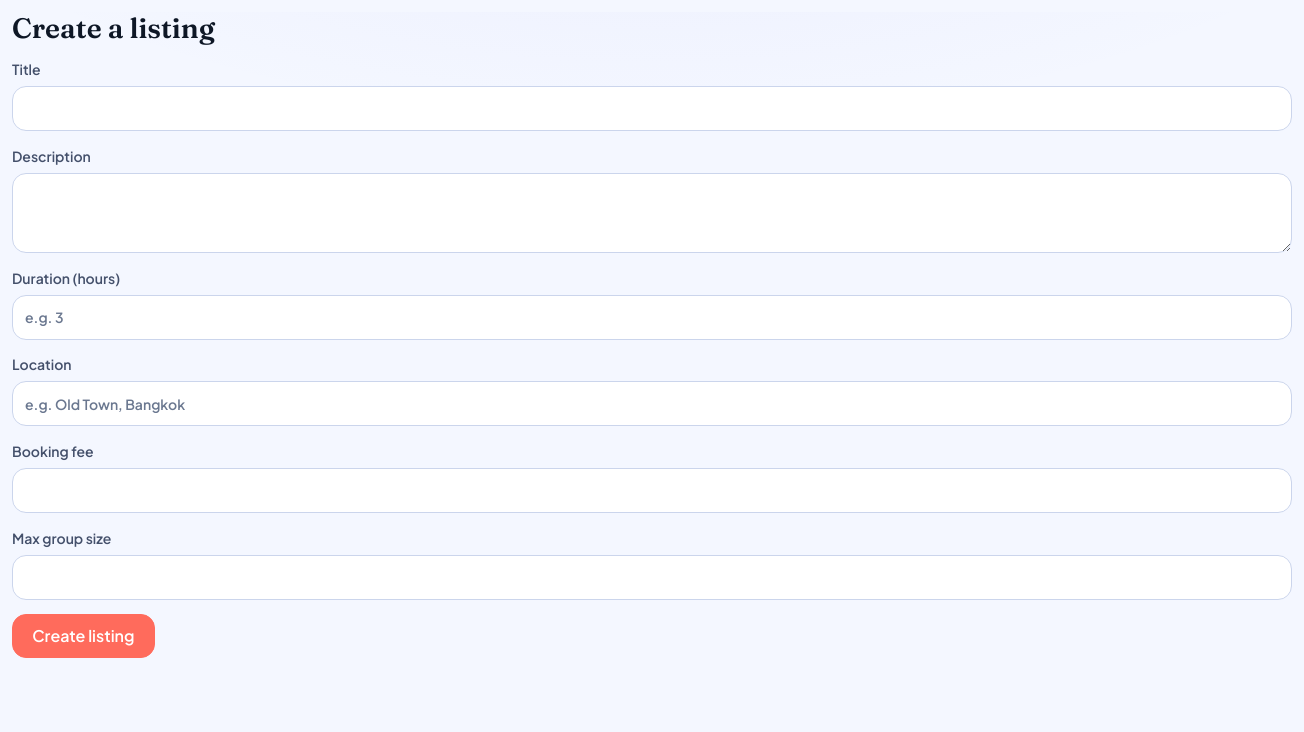
Test: CreatePostForm › shows a validation error message when create fails
Step 1. Type "Sunset Hike" into the field labelled "Title" → (652, 109), box top-left (12, 86), bottom-right (1292, 131)
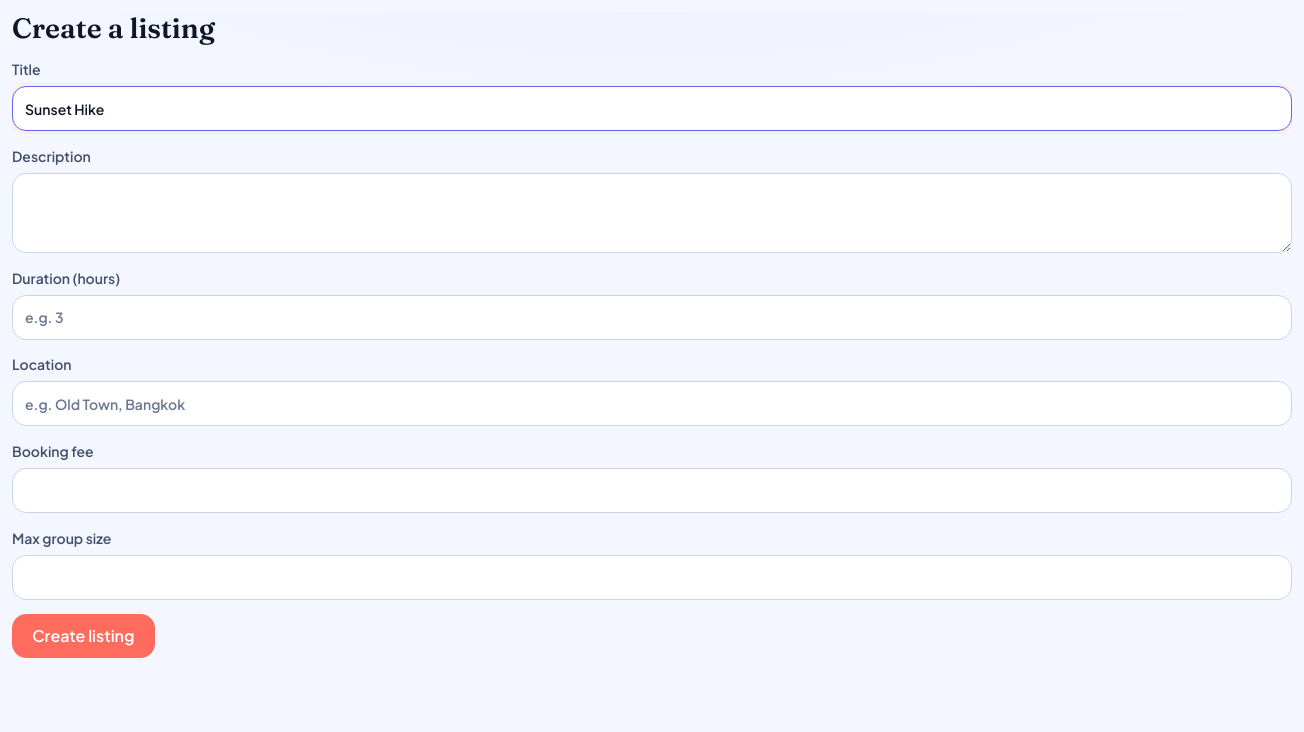
Step 2. Type "25" into the number field labelled "Booking fee" → (652, 491), box top-left (12, 468), bottom-right (1292, 513)
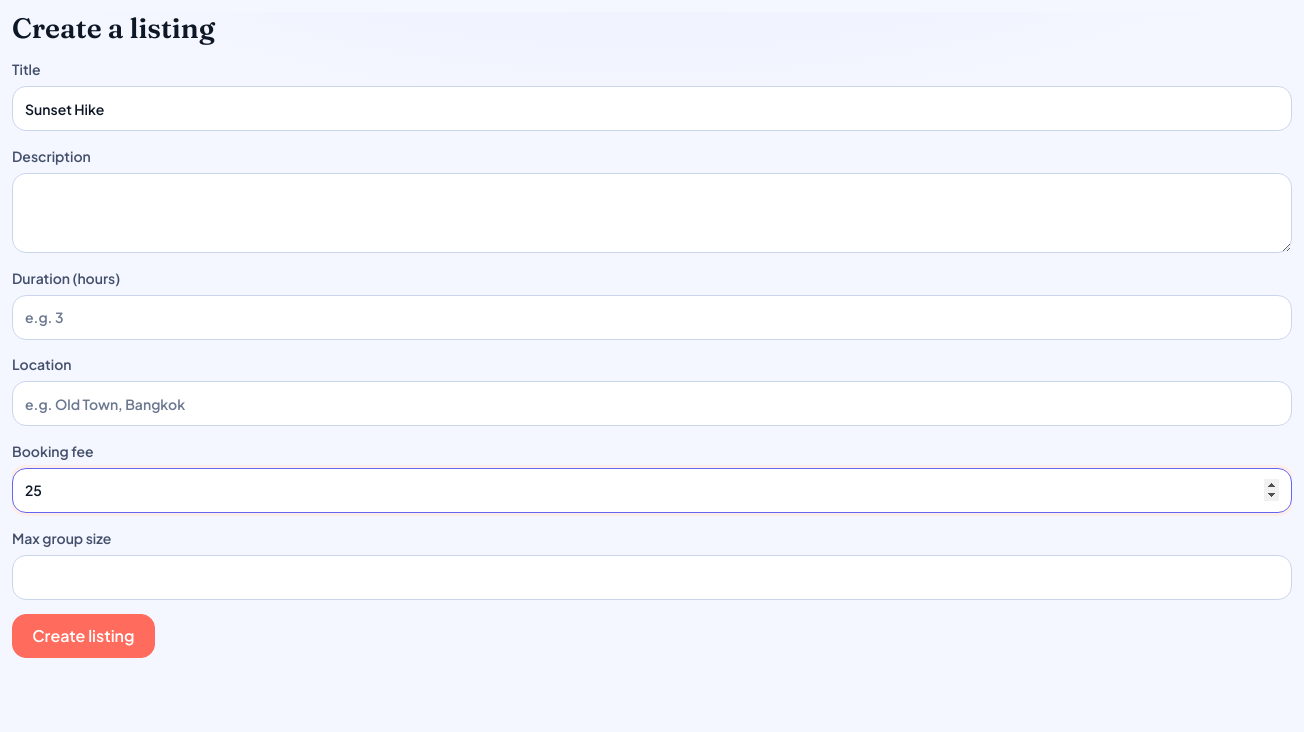
Step 3. Type "6" into the number field labelled "Max group size" → (652, 577), box top-left (12, 555), bottom-right (1292, 600)
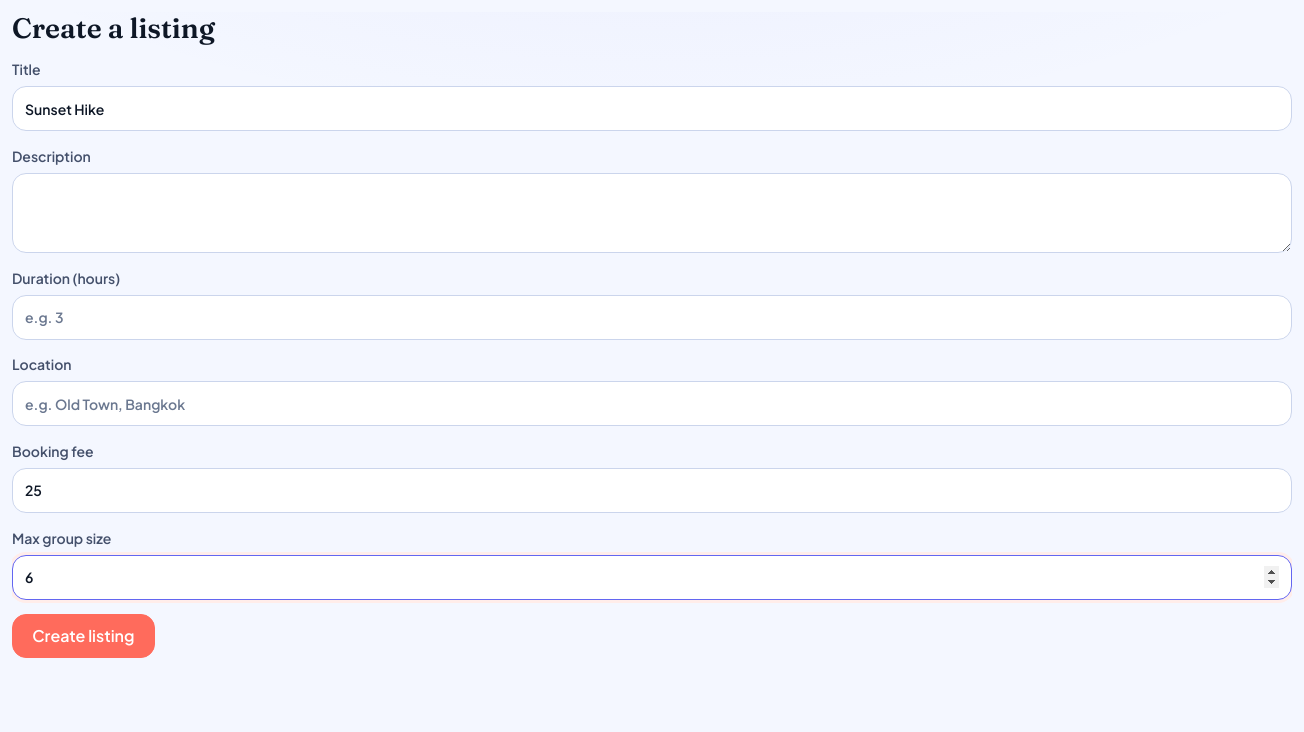
Step 4. Click the button "Create listing" → (83, 636), box top-left (12, 614), bottom-right (155, 658)
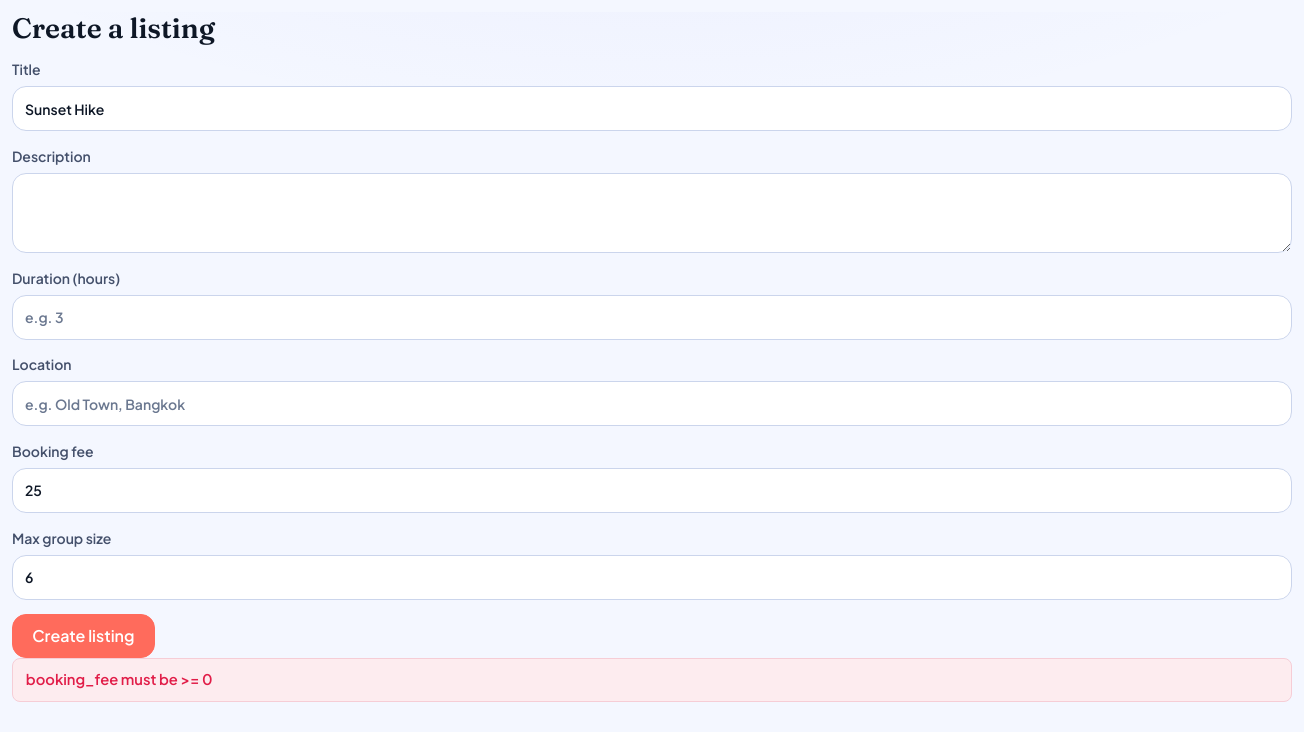
Result: the message reads "booking_fee must be >= 0" at top-left (26, 670), bottom-right (212, 688)
